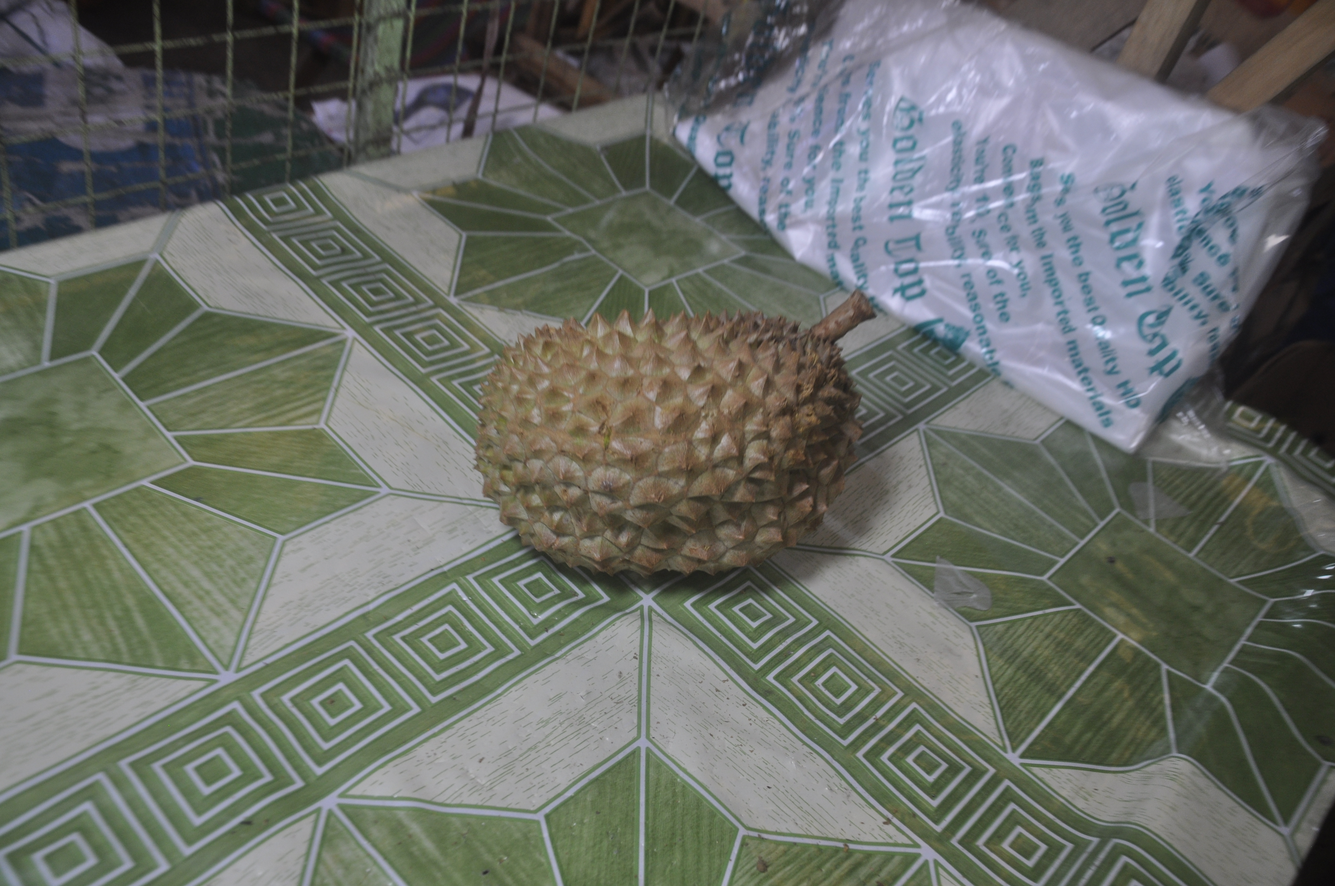mature: (477, 292, 876, 589)
